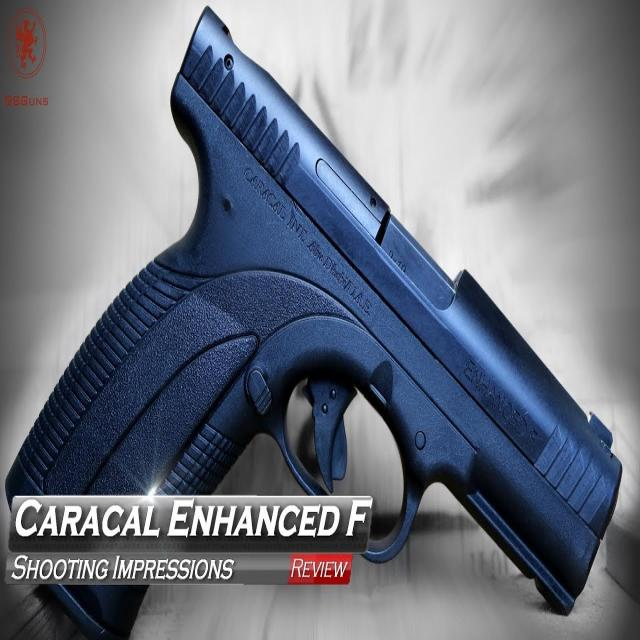Gun: (20, 9, 620, 627)
